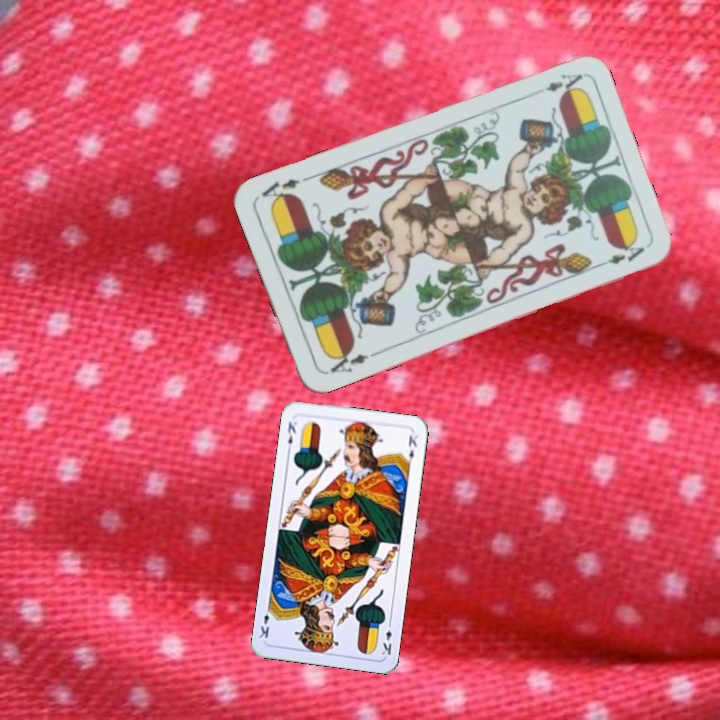EA: (322, 345, 379, 377), (540, 69, 585, 99)
EK: (378, 617, 394, 657), (283, 417, 299, 455)
